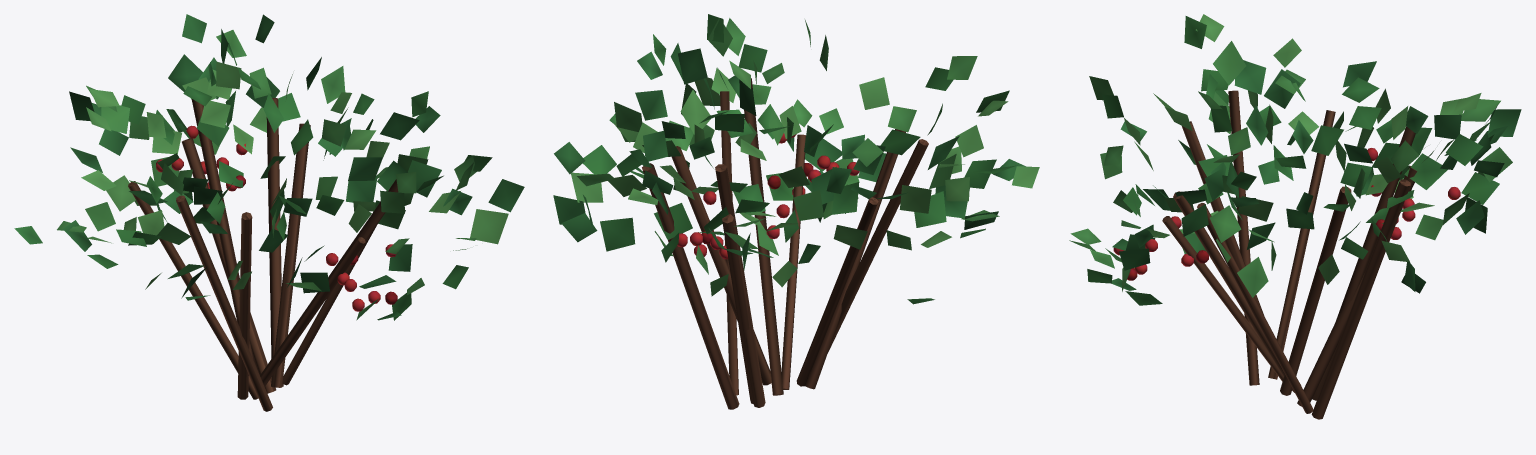
The model's file is small-lod0.glb.
3 views of the same model, side by side, from view 1: azimuth 30°, elevation 25°; view 2: azimuth 150°, elevation 25°; view 3: azimuth 270°, elevation 25° (orthographic). The views are drawn at different scales.
Visible parts, largest first — view 1: redberry-individual-ovate-leaves, redberry-buried-stems-ground-blend-and-fruit; view 2: redberry-individual-ovate-leaves, redberry-buried-stems-ground-blend-and-fruit; view 3: redberry-individual-ovate-leaves, redberry-buried-stems-ground-blend-and-fruit.
Boxes of the visible parts, left/top/right/bottom form: redberry-individual-ovate-leaves: left=14, top=14, right=524, bottom=320; redberry-buried-stems-ground-blend-and-fruit: left=128, top=98, right=398, bottom=411; redberry-individual-ovate-leaves: left=553, top=14, right=1039, bottom=304; redberry-buried-stems-ground-blend-and-fruit: left=642, top=78, right=928, bottom=409; redberry-individual-ovate-leaves: left=1069, top=14, right=1521, bottom=305; redberry-buried-stems-ground-blend-and-fruit: left=1113, top=90, right=1460, bottom=419.
Size of the model in its own units: 1.41 by 1.08 by 1.41.
